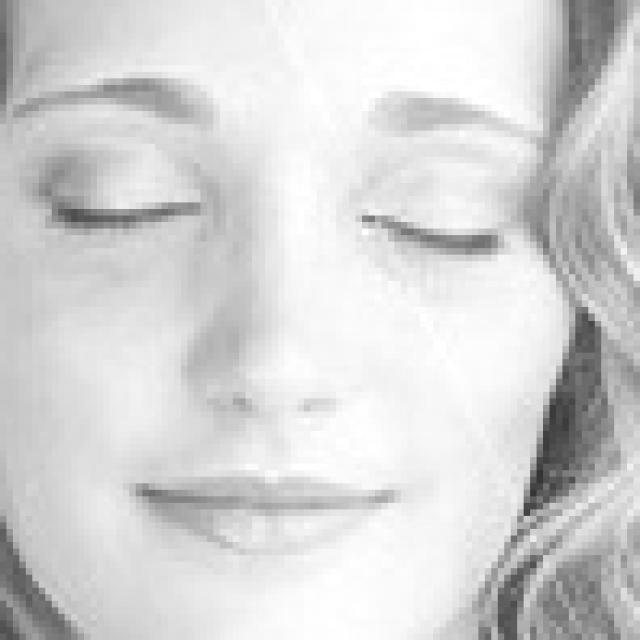real: (16, 9, 576, 611), (32, 141, 538, 268)
